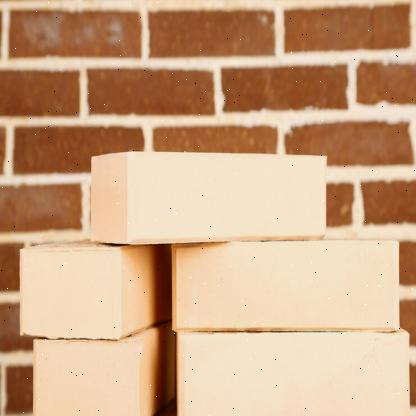box: (172, 242, 400, 334), (178, 333, 410, 415), (128, 152, 326, 248), (19, 245, 122, 336), (34, 336, 142, 416)
